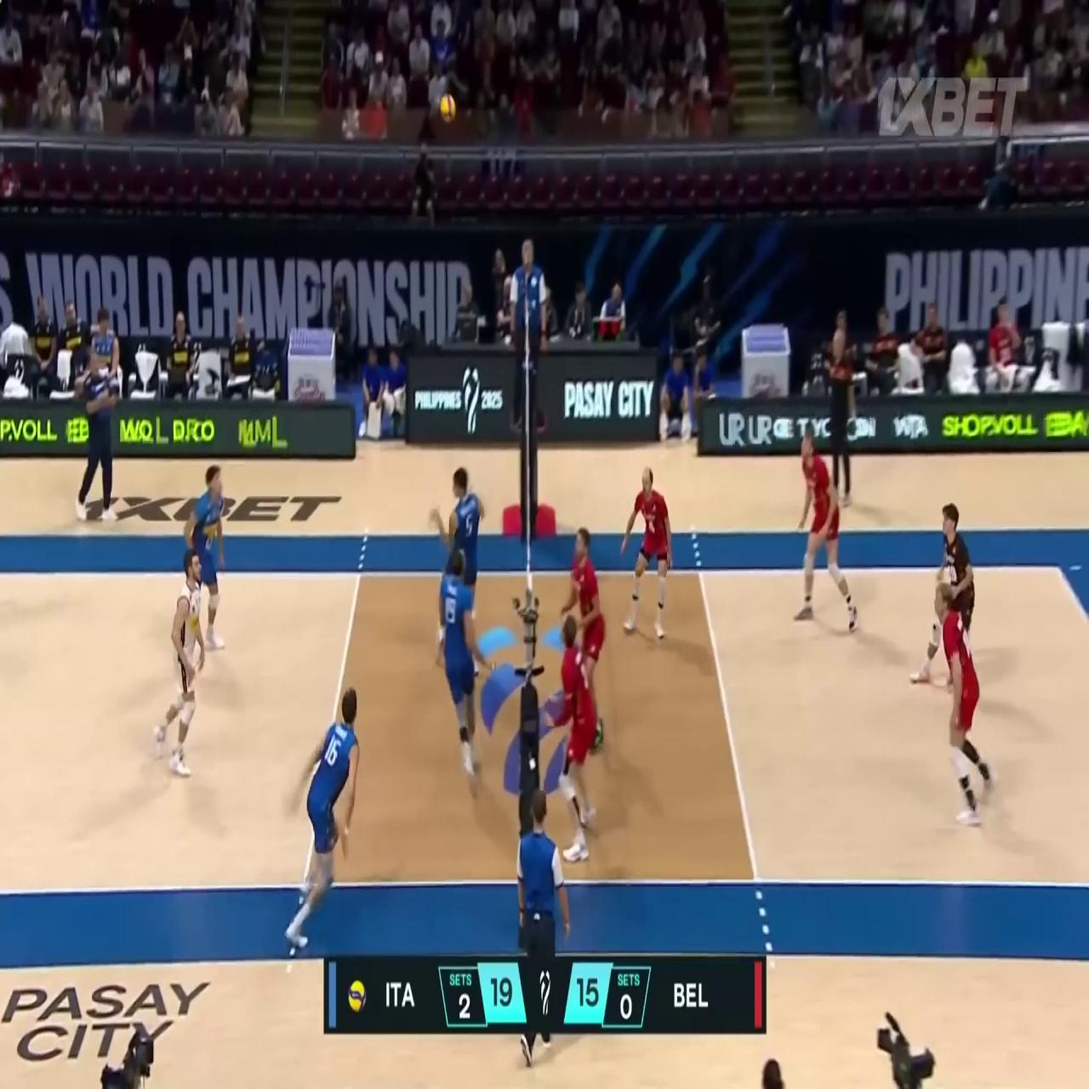ball: (440, 93, 455, 123)
